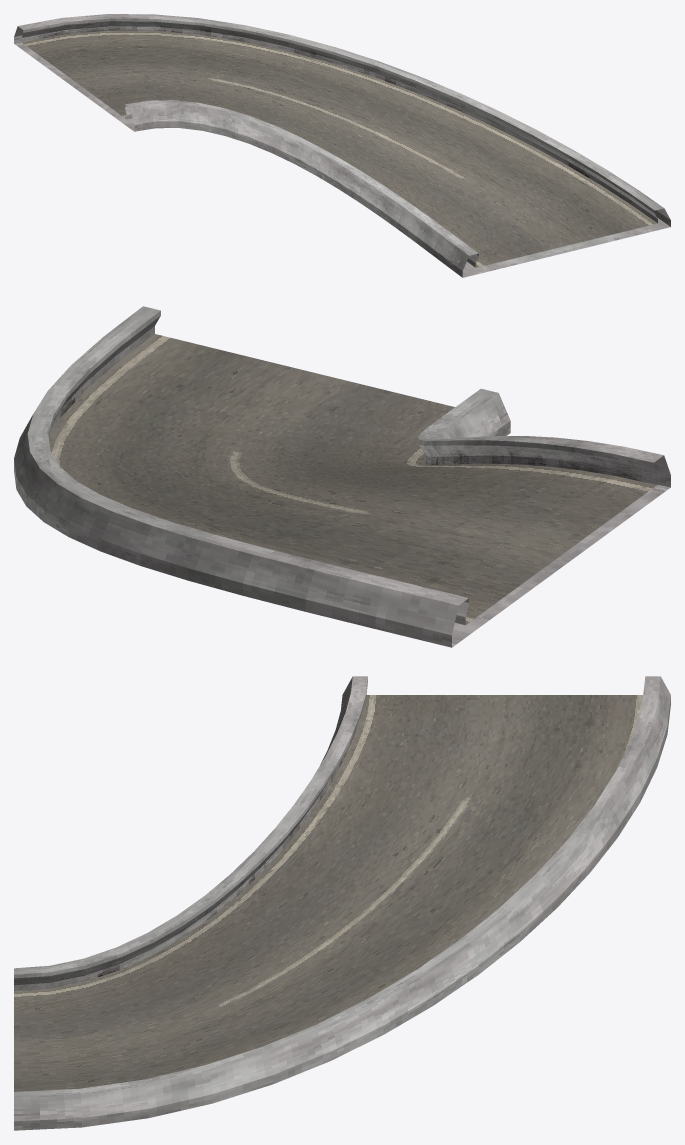
The model's file is turn-left2x2.glb.
The picture shows the model from 3 angles, top to bottom: view 1: azimuth 30°, elevation 25°; view 2: azimuth 150°, elevation 25°; view 3: azimuth 270°, elevation 25°; orthographic projection. The views are drawn at different scales.
Parts seen in each view (by area): view 1: road-Turn-Flat-Flat-Up2-Left-Size2; view 2: road-Turn-Flat-Flat-Up2-Left-Size2; view 3: road-Turn-Flat-Flat-Up2-Left-Size2.
Boxes of the visible parts, x1=… form: road-Turn-Flat-Flat-Up2-Left-Size2: x1=14, y1=14, x2=670, y2=277; road-Turn-Flat-Flat-Up2-Left-Size2: x1=14, y1=306, x2=670, y2=647; road-Turn-Flat-Flat-Up2-Left-Size2: x1=14, y1=676, x2=670, y2=1130.
Size of the model in its own units: 2 by 0.5938 by 2.
2 materials, 2 textured.
